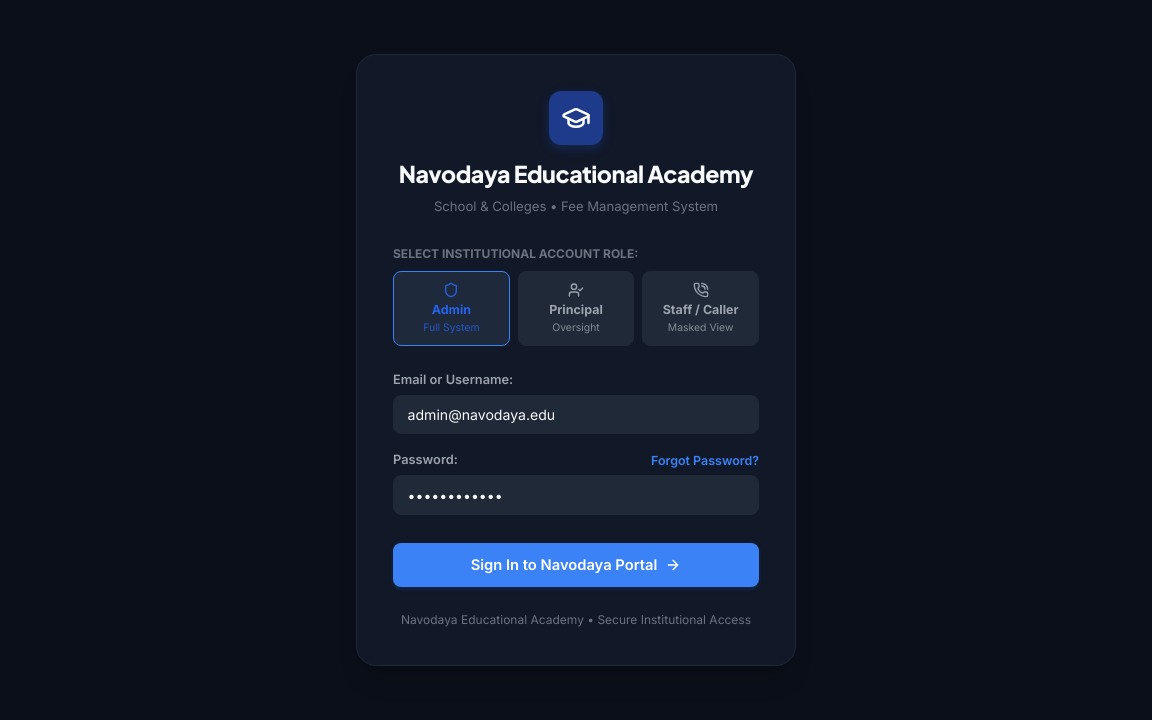
Test case: LoginView Component › opens forgot password modal when clicked
Click the button "Forgot Password?" at (705, 460), box [651,452,759,468]
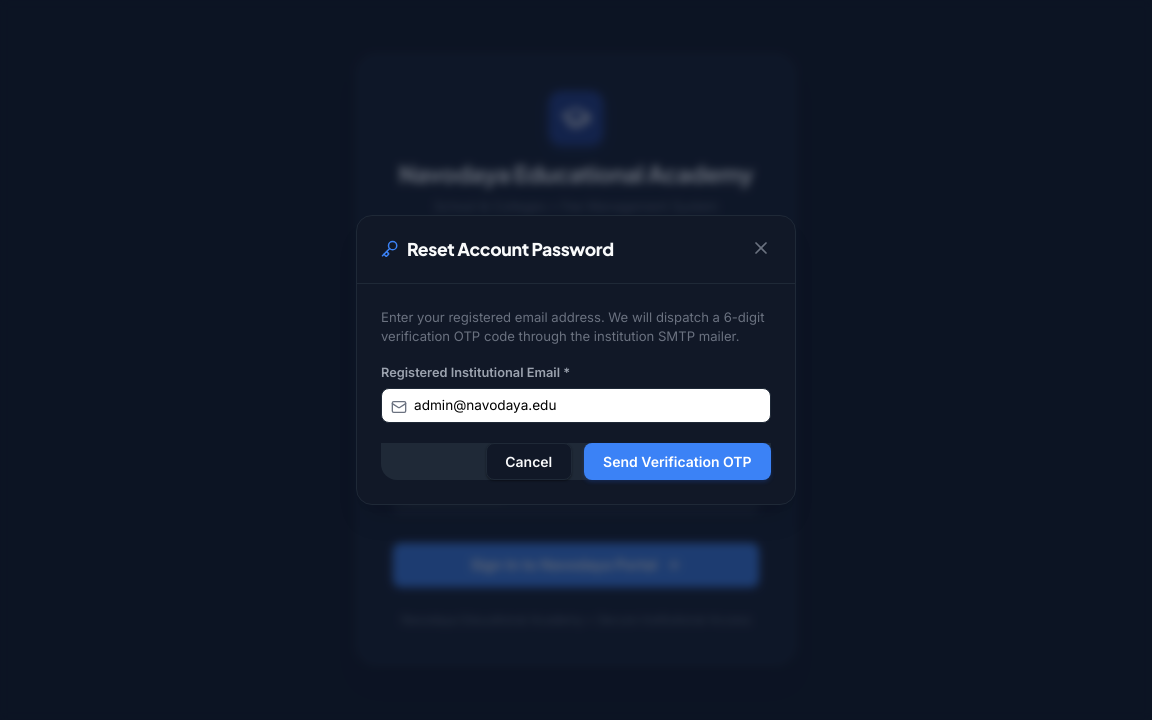
Check: the heading "Reset Account Password" is shown, box [407,236,614,262]
